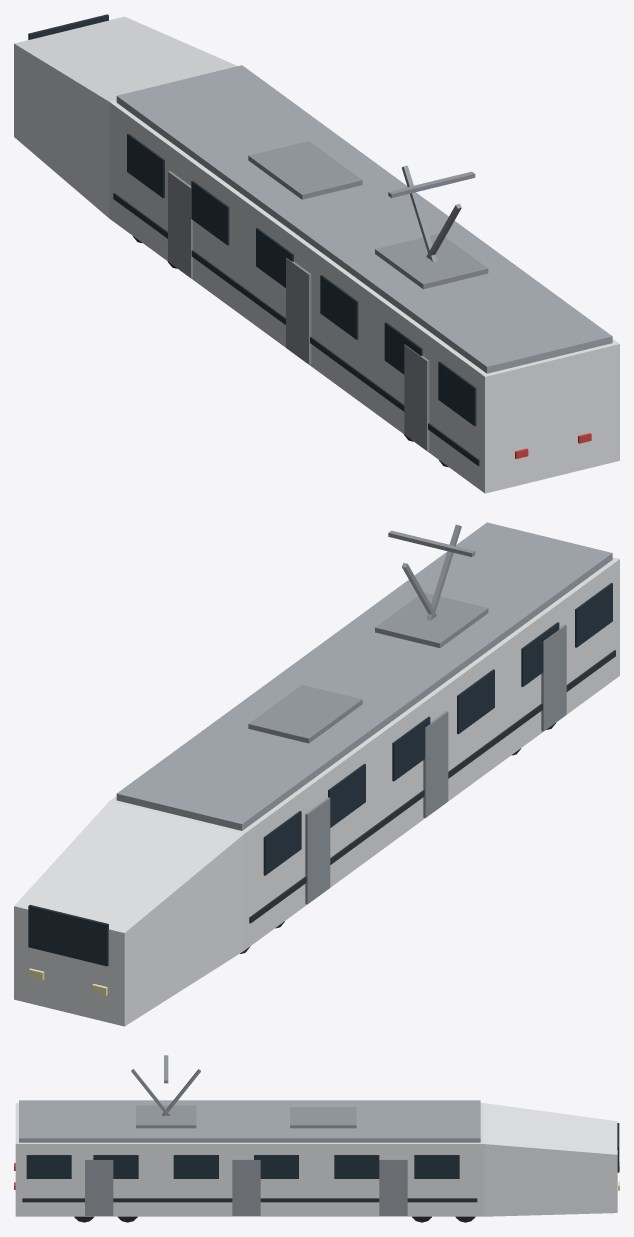
The model's file is sbahn.glb.
3 views of the same model, one above another, from view 1: azimuth 30°, elevation 25°; view 2: azimuth 150°, elevation 25°; view 3: azimuth 270°, elevation 25° (orthographic). The views are drawn at different scales.
Parts seen in each view (by area): view 1: body, roof, cab, door (×3), roof-unit, pantograph-base, stripe, window--1-3, window--1-5, window--1-1, window--1-0, window--1-2 (+2 smaller); view 2: roof, cab, body, door (×3), roof-unit, windshield, pantograph-base, stripe, window--1-0, window--1-3, window--1-5, window--1-1 (+2 smaller); view 3: body, roof, cab, door (×3), stripe, roof-unit, pantograph-base, window-1-0, window-1-1, window-1-3, window-1-5, window-1-2 (+1 smaller).
Boxes of the visible parts, <box> form: body: <box>109,100,619,493</box>; roof: <box>116,65,612,373</box>; cab: <box>14,16,237,217</box>; door (×3): <box>168,171,429,451</box>; roof-unit: <box>248,141,362,199</box>; pantograph-base: <box>375,233,488,289</box>; stripe: <box>113,193,479,465</box>; window--1-3: <box>320,275,358,339</box>; window--1-5: <box>438,361,476,426</box>; window--1-1: <box>191,181,229,245</box>; window--1-0: <box>127,133,164,198</box>; window--1-2: <box>256,228,293,287</box>; roof: <box>116,522,612,830</box>; cab: <box>14,801,243,1026</box>; body: <box>109,557,619,950</box>; door (×3): <box>305,624,566,904</box>; roof-unit: <box>248,684,362,743</box>; windshield: <box>28,905,108,966</box>; pantograph-base: <box>375,592,488,648</box>; stripe: <box>249,650,615,923</box>; window--1-0: <box>263,811,301,875</box>; window--1-3: <box>457,669,494,734</box>; window--1-5: <box>575,583,612,647</box>; window--1-1: <box>328,763,365,827</box>; body: <box>15,1103,483,1216</box>; roof: <box>19,1100,480,1142</box>; cab: <box>484,1103,617,1216</box>; door (×3): <box>85,1159,407,1215</box>; stripe: <box>22,1198,477,1202</box>; roof-unit: <box>290,1107,356,1128</box>; pantograph-base: <box>136,1105,196,1128</box>; window-1-0: <box>414,1155,459,1178</box>; window-1-1: <box>334,1155,379,1178</box>; window-1-3: <box>173,1155,218,1178</box>; window-1-5: <box>26,1155,71,1178</box>; window-1-2: <box>254,1155,298,1178</box>.
Size of the model in its own units: 3 by 4.56 by 18.12.
